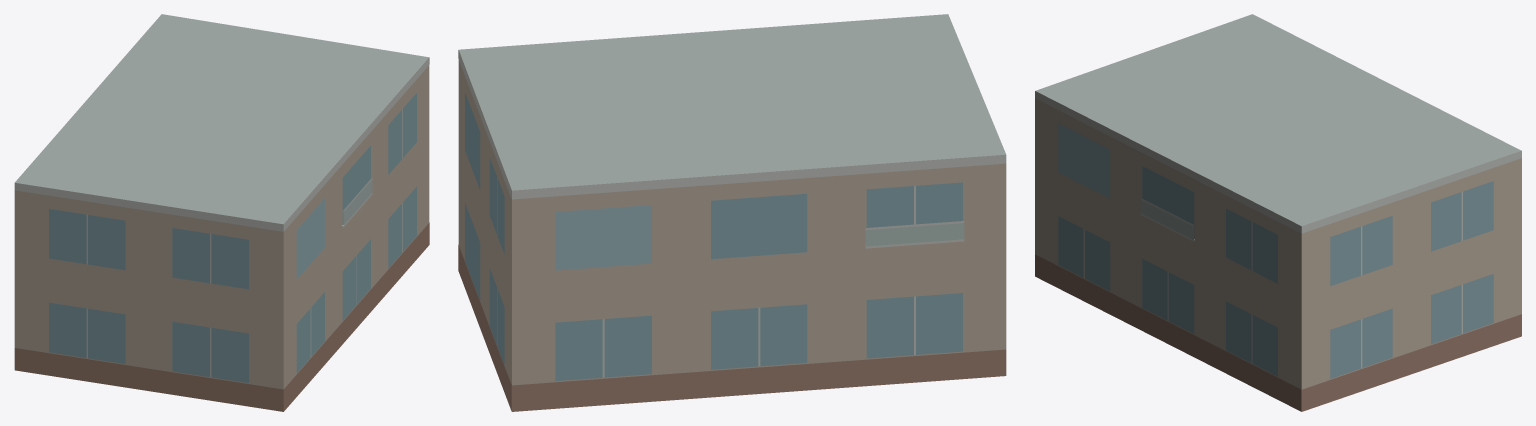
File: survey-upis-32849523.glb
The picture shows the model from 3 angles, left to right: view 1: azimuth 30°, elevation 25°; view 2: azimuth 150°, elevation 25°; view 3: azimuth 270°, elevation 25°; orthographic projection. The views are drawn at different scales.
Visible parts, largest first — view 1: survey-upis-32849523.tmp; view 2: survey-upis-32849523.tmp; view 3: survey-upis-32849523.tmp.
Part boxes in pixels (x1=…): survey-upis-32849523.tmp: x1=14, y1=14, x2=429, y2=411; survey-upis-32849523.tmp: x1=458, y1=14, x2=1006, y2=411; survey-upis-32849523.tmp: x1=1035, y1=14, x2=1521, y2=411.
Bounding box in the file's own units: 14.97 × 6.1 × 14.51.
